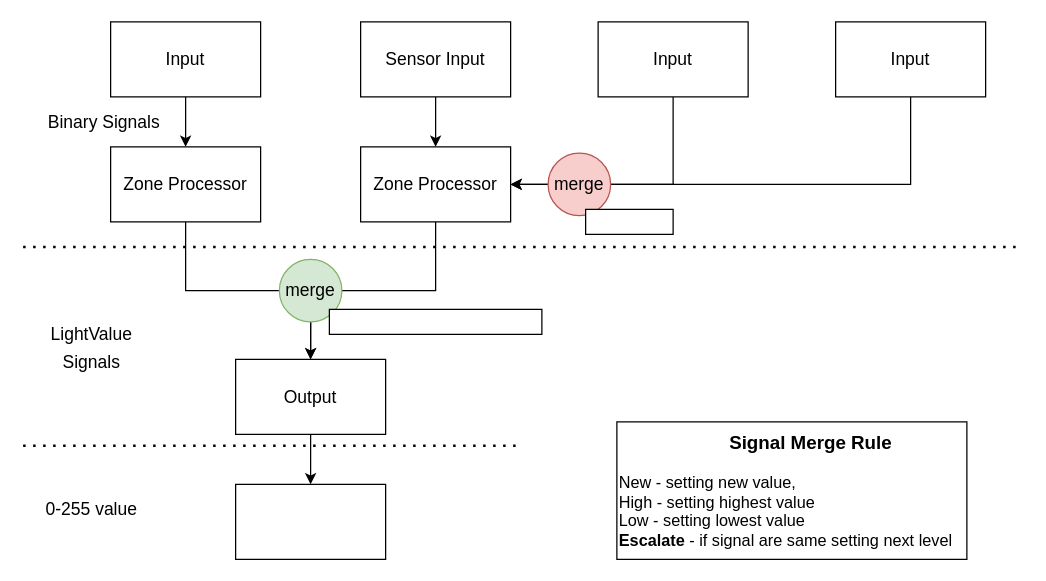
This 1046x581 diagram has some shape labels left out. The shapes that lost their labels are listed below. From the top down, each one's box as (x1, y1, x2, y2) in pixels, then its label:
(584, 208, 673, 234): New only
(328, 308, 542, 334): New, High, Low, Escalate
(234, 483, 386, 559): PWM
